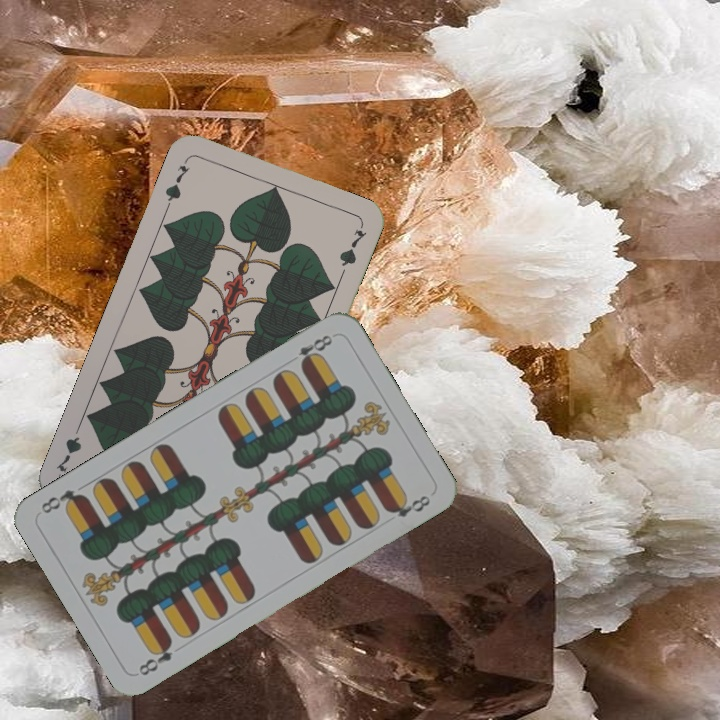E8: (134, 635, 176, 679), (293, 330, 338, 370)
G7: (161, 153, 193, 210)
